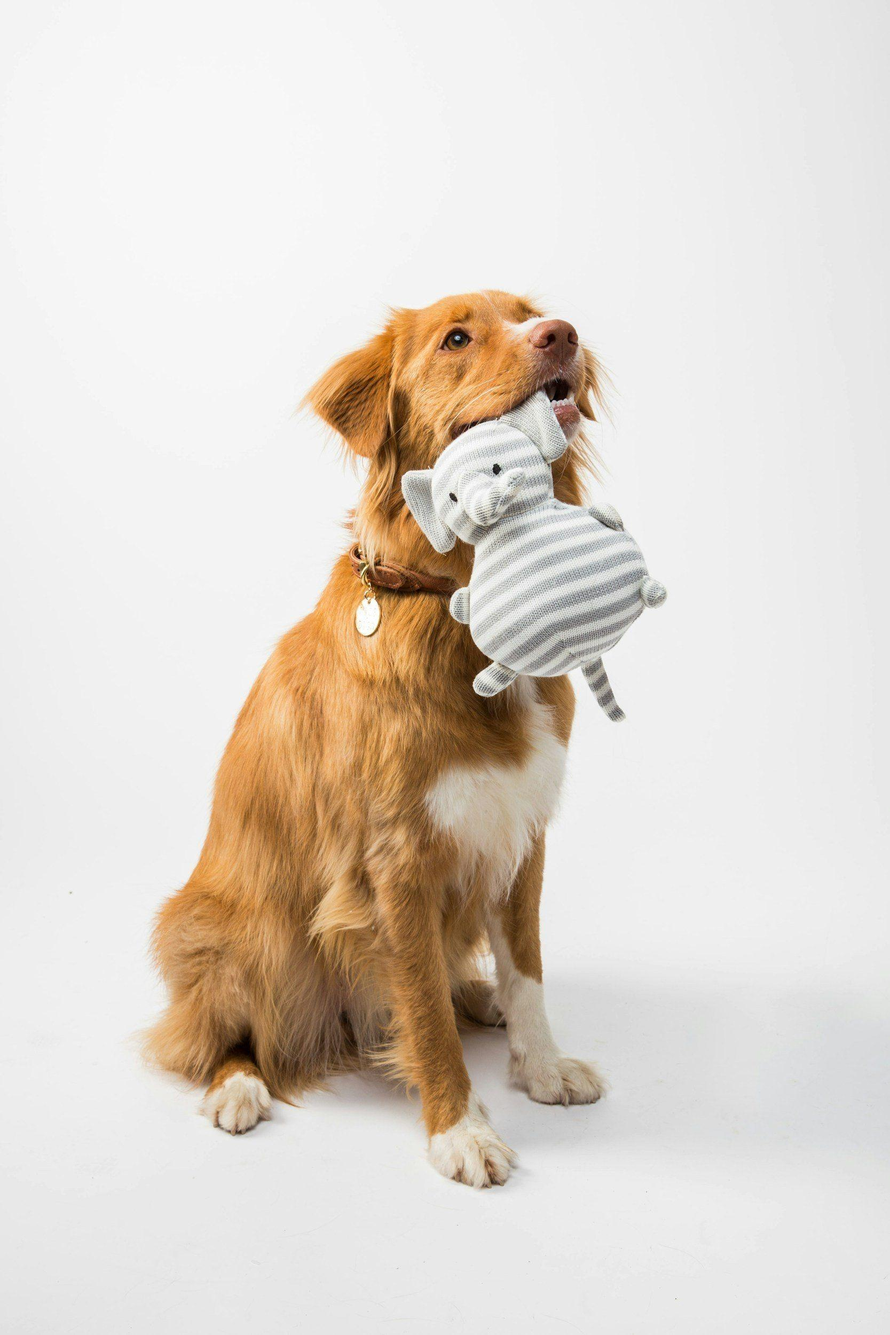adult_dog: (133, 286, 611, 1196)
non-dog: (400, 386, 668, 723)
